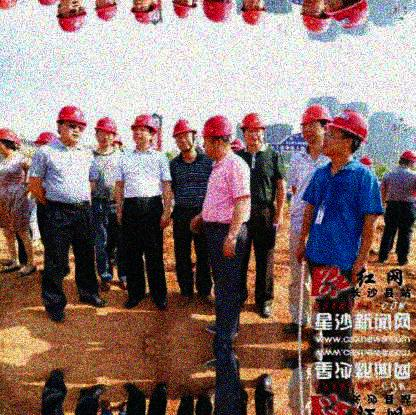helmet: (322, 111, 373, 161), (202, 117, 234, 161), (57, 106, 87, 149), (238, 113, 268, 152), (130, 115, 159, 152), (299, 107, 326, 145), (55, 1, 88, 32), (299, 1, 331, 32), (94, 115, 120, 152), (172, 118, 198, 155), (1, 127, 23, 157), (239, 1, 266, 24), (129, 1, 158, 21), (93, 1, 117, 20), (399, 150, 415, 172)
